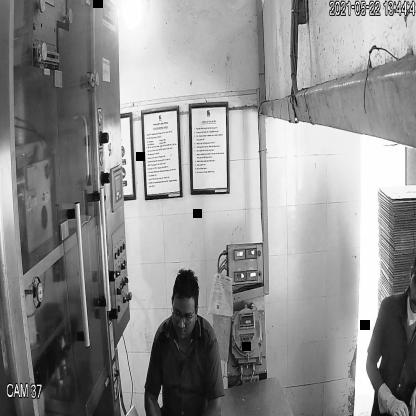goggles: (169, 304, 196, 330)
no_goggles: (409, 276, 416, 300)
